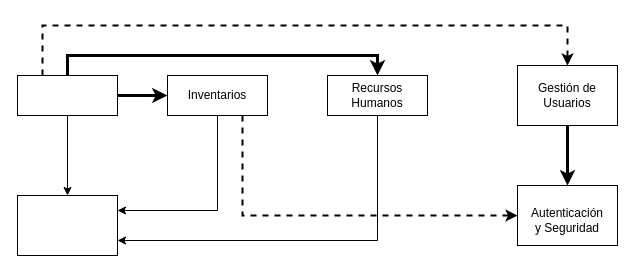
The diagram is 635 pixels wide and 273 high, and some of its shapes have lost their labels. Here are the shapes that lost their labels. From the top down, the centre of each, then its label:
At pixel 67 95: "Finanzas".
At pixel 67 225: "Informes y Reportes".
